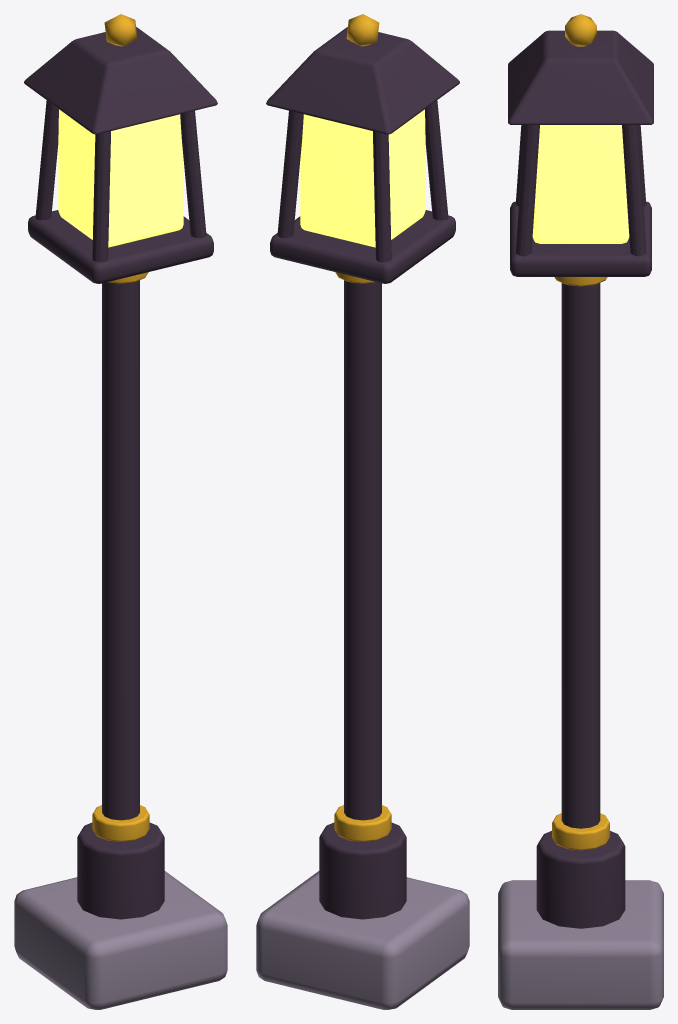
File: Lantern.glb
The picture shows the model from 3 angles, left to right: view 1: azimuth 30°, elevation 25°; view 2: azimuth 150°, elevation 25°; view 3: azimuth 270°, elevation 25°; orthographic projection.
Visible parts, largest first — view 1: Lantern__Structure, Lantern__Fixtures, Lantern__Glow; view 2: Lantern__Structure, Lantern__Fixtures, Lantern__Glow; view 3: Lantern__Structure, Lantern__Fixtures, Lantern__Glow.
Part boxes in pixels (x1,y1,x2,y2): Lantern__Structure: [14, 272, 227, 1009]; Lantern__Fixtures: [24, 14, 217, 283]; Lantern__Glow: [58, 109, 183, 247]; Lantern__Structure: [256, 272, 469, 1009]; Lantern__Fixtures: [266, 14, 459, 283]; Lantern__Glow: [300, 109, 425, 247]; Lantern__Structure: [498, 277, 663, 1009]; Lantern__Fixtures: [508, 14, 653, 276]; Lantern__Glow: [532, 125, 629, 243].
Bounding box in the file's own units: 1.2 × 7.71 × 1.2.
